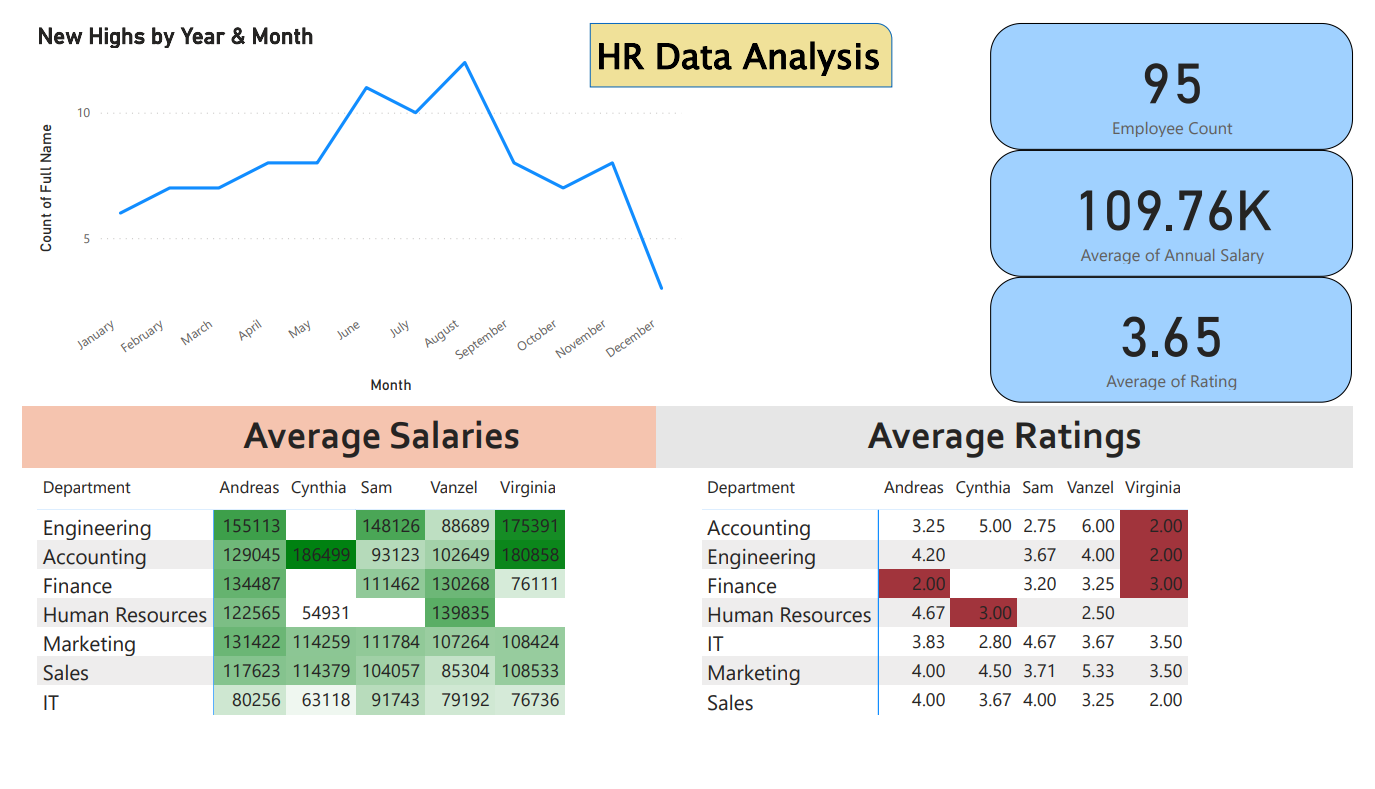

Layout of this report page (visuals, bound fields, positions):
{"tool":"powerbi","page":{"name":"HR Data Analysis","canvas":[1280,720],"ordinal":1},"visuals":[{"type":"lineChart","title":"New Highs by Year & Month","fields":{"Category":["Staff.Hire Date.Variation.Date Hierarchy.Year","Staff.Hire Date.Variation.Date Hierarchy.Month"],"Y":["Staff.Full Name"]},"box":[9.6,0,629.5,360.6],"z":0},{"type":"pivotTable","fields":{"Rows":["Staff.Department"],"Columns":["Staff.Manager"],"Values":["Staff.Annual Salary"]},"box":[9.6,429.3,630.8,290.7],"z":1000},{"type":"pivotTable","fields":{"Rows":["Staff.Department"],"Columns":["Staff.Manager"],"Values":["Staff.Rating"]},"box":[648.8,429.3,630.8,290.7],"z":2000},{"type":"card","fields":{"Values":["Staff.Full Name"]},"box":[931.1,0,348.5,121.8],"z":3000},{"type":"card","fields":{"Values":["Staff.Annual Salary"]},"box":[931.1,121.8,348.5,121.8],"z":4000},{"type":"card","fields":{"Values":["Staff.Rating"]},"box":[931.1,243.6,348.5,121.8],"z":5000},{"type":"textbox","box":[0,367.8,692.3,59.1],"z":6000},{"type":"textbox","box":[610.3,367.8,669.3,59.1],"z":7000},{"type":"shape","box":[546.3,0,290.7,61.5],"z":7001}]}

Visuals, with their boxes in screenshot pixels (x1, y1, x2, y2), scaled from the page's 1280x720 canvas onto the 1375x789 screenshot:
"New Highs by Year & Month" lineChart: detection(10, 0, 687, 395)
pivotTable - Staff.Department x Staff.Manager: detection(10, 470, 688, 788)
pivotTable - Staff.Department x Staff.Manager: detection(697, 470, 1374, 788)
card - Staff.Full Name: detection(1000, 0, 1374, 133)
card - Staff.Annual Salary: detection(1000, 133, 1374, 267)
card - Staff.Rating: detection(1000, 267, 1374, 400)
textbox: detection(0, 403, 744, 468)
textbox: detection(656, 403, 1374, 468)
shape: detection(587, 0, 899, 67)
